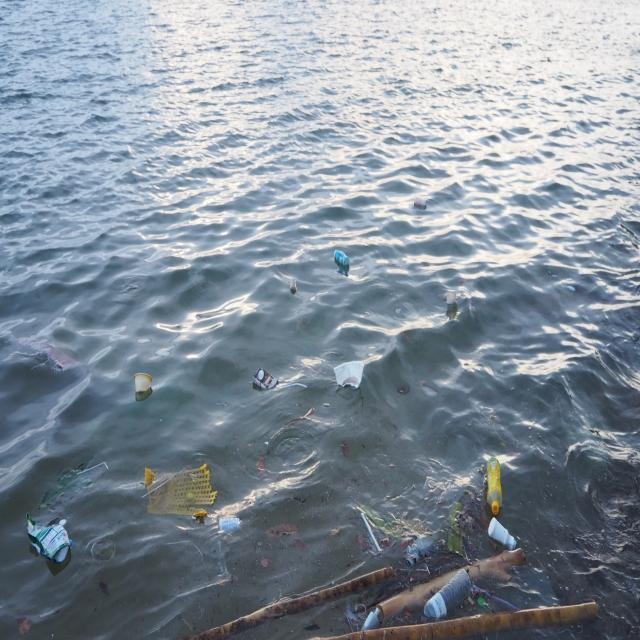foam: (332, 357, 368, 395)
plastic: (424, 570, 474, 618), (486, 456, 502, 518), (489, 518, 516, 553), (333, 247, 349, 269), (412, 193, 428, 210)
plastic bottle: (86, 533, 116, 562), (216, 512, 244, 534), (134, 369, 154, 399), (77, 460, 109, 476), (444, 286, 458, 304)
unknow: (139, 464, 217, 519), (22, 330, 79, 379), (37, 468, 99, 511), (25, 509, 70, 562), (403, 526, 439, 566), (357, 602, 384, 628), (252, 368, 280, 392), (289, 278, 299, 294)
